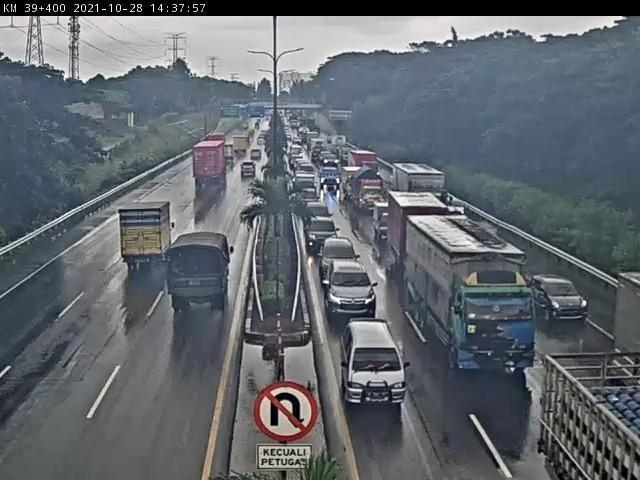bus: (162, 237, 237, 333)
car: (345, 314, 415, 416), (315, 261, 409, 322), (530, 274, 606, 326), (315, 231, 352, 268), (310, 215, 341, 252), (310, 195, 341, 231), (239, 167, 261, 184), (249, 146, 265, 165)
truck: (396, 213, 538, 382), (103, 195, 187, 288), (178, 136, 234, 191)
